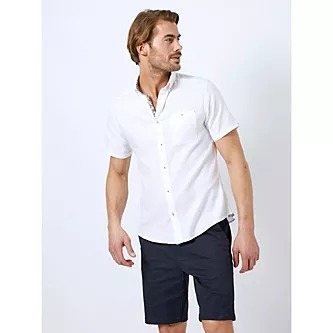C_shirt: (106, 71, 240, 247)
